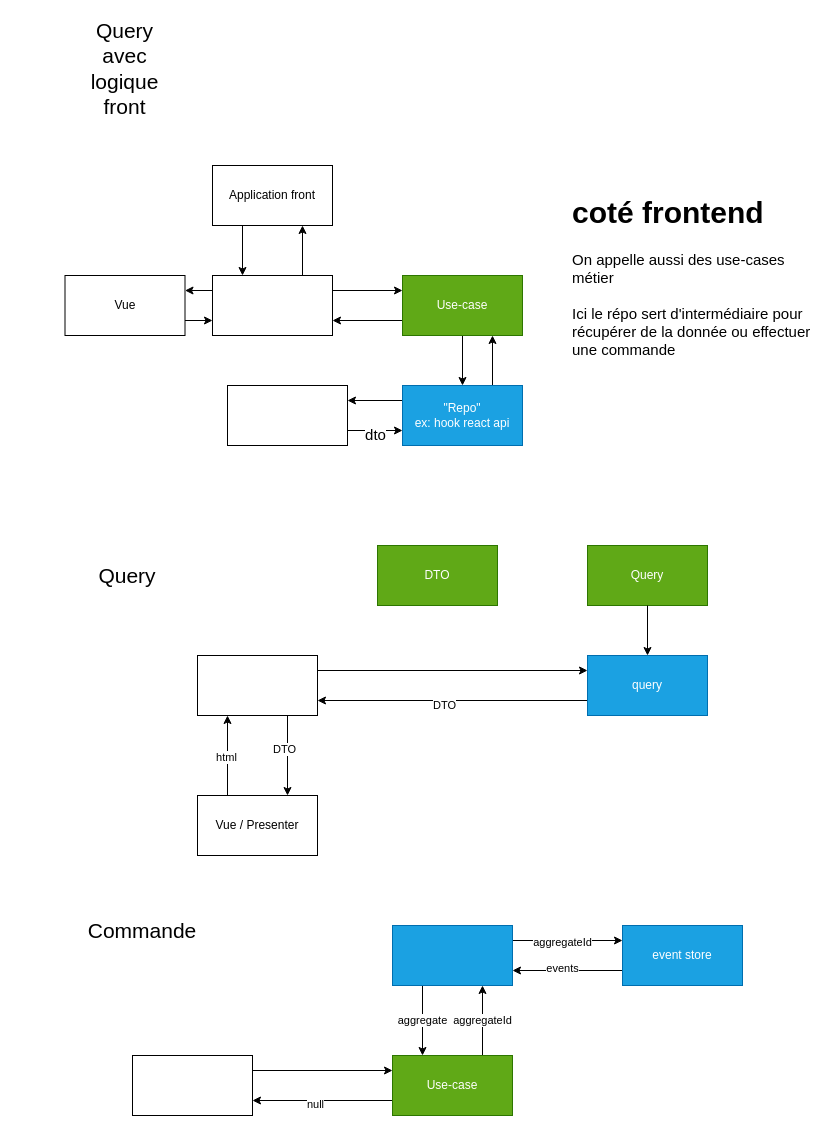
This 834x1133 diagram has some shape labels left out. Each missing label, with the box of its shape:
controller GET /page: (196, 654, 318, 716)
controller POST /page: (132, 1054, 252, 1116)
controller XYZ en mode "API": (226, 384, 348, 446)
Presenter: (212, 274, 332, 336)
Repo (back): (392, 924, 512, 986)
